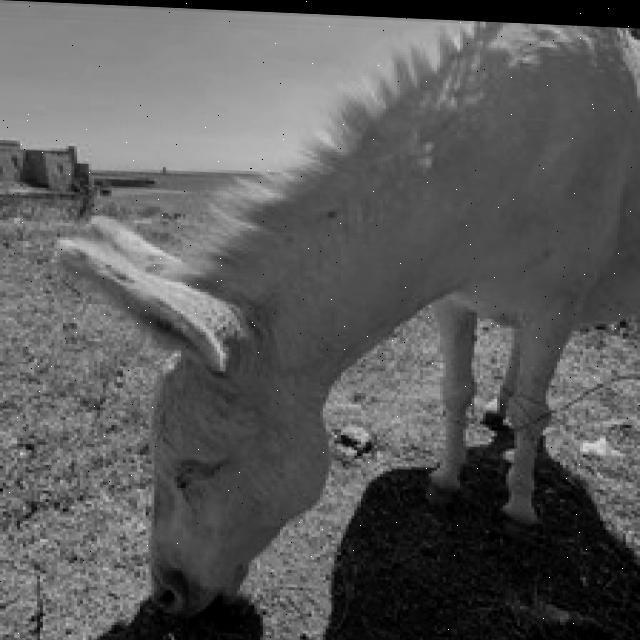Donkey: (51, 2, 637, 640)
